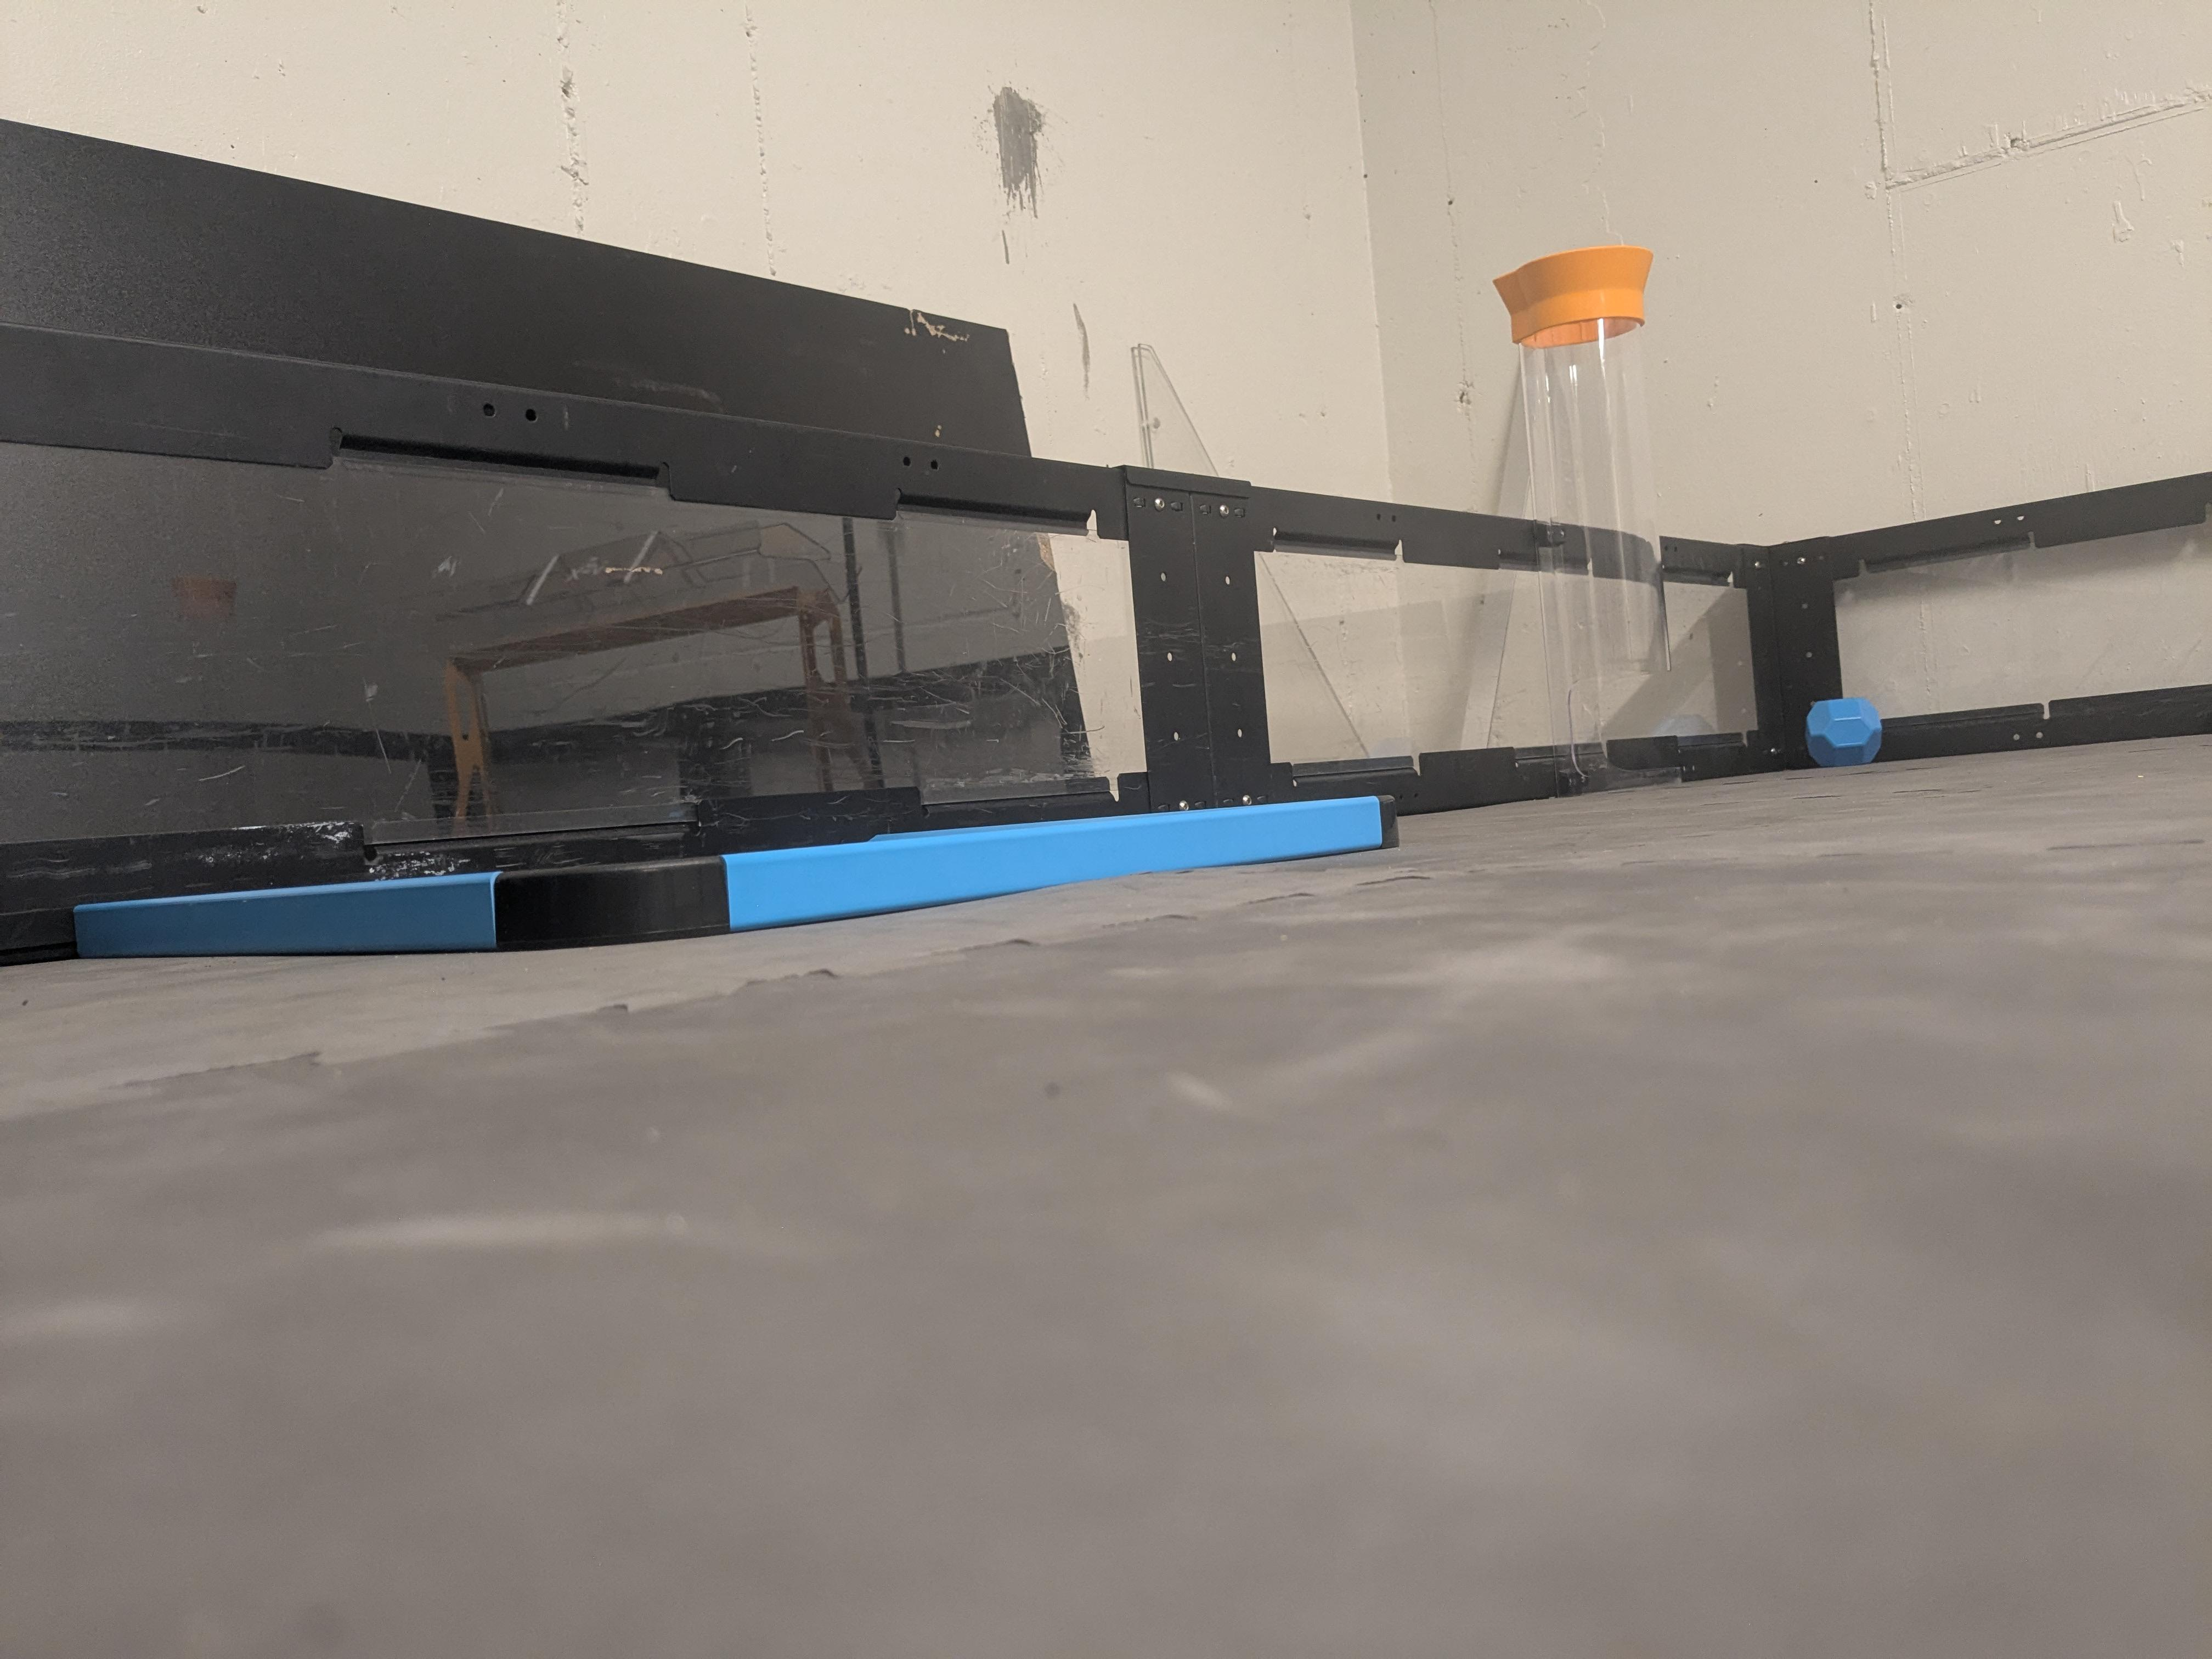Vex-Pieces-BLUE: (1801, 699, 1879, 765)
